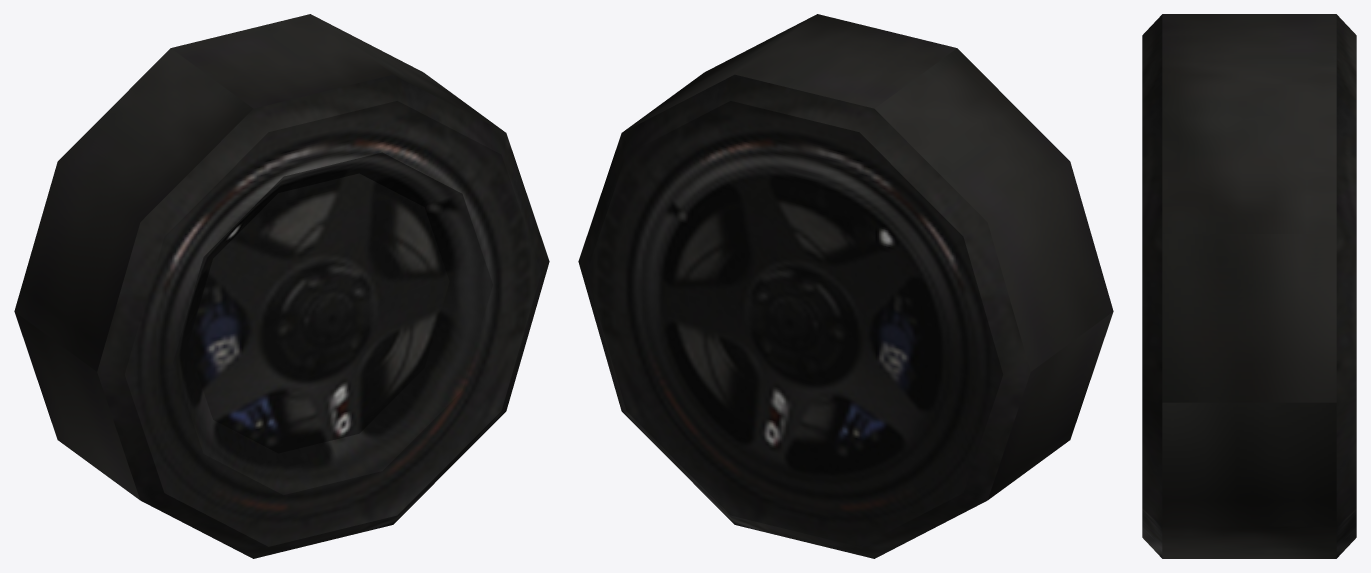
File: Mesh_Wheel.fbx
3 views of the same model, side by side, from view 1: azimuth 30°, elevation 25°; view 2: azimuth 150°, elevation 25°; view 3: azimuth 270°, elevation 25° (orthographic). The views are drawn at different scales.
Visible parts, largest first — view 1: Wheel; view 2: Wheel; view 3: Wheel.
Boxes of the visible parts, box(x1,y1,x2,y2) form: Wheel: box(14, 14, 549, 558); Wheel: box(578, 14, 1113, 558); Wheel: box(1142, 14, 1356, 558).
Bounding box in the file's own units: 142 × 135 × 55.52.
1 material, 1 textured.
